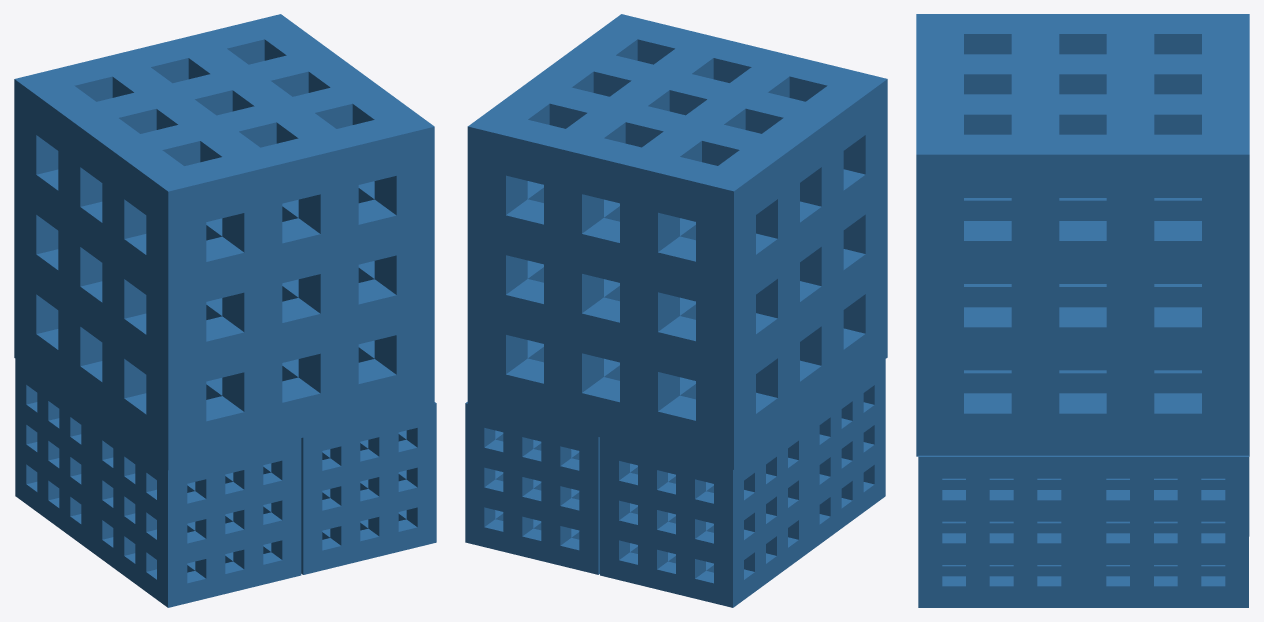
File: 4 Essentialblend.gltf
3 renders of one model, left to right at view 1: azimuth 30°, elevation 25°; view 2: azimuth 150°, elevation 25°; view 3: azimuth 270°, elevation 25°, orthographic. The views are drawn at different scales.
Parts seen in each view (by area): view 1: BridgeTestPart, BridgeTestPart.003, BridgeTestPart.004, BridgeTestPart.002; view 2: BridgeTestPart, BridgeTestPart.002, BridgeTestPart.001, BridgeTestPart.003; view 3: BridgeTestPart, BridgeTestPart.001, BridgeTestPart.004.
Part boxes in pixels (x1=…): BridgeTestPart: x1=14, y1=14, x2=434, y2=470; BridgeTestPart.003: x1=91, y1=414, x2=301, y2=607; BridgeTestPart.004: x1=301, y1=402, x2=436, y2=574; BridgeTestPart.002: x1=15, y1=359, x2=92, y2=551; BridgeTestPart: x1=467, y1=14, x2=887, y2=469; BridgeTestPart.002: x1=600, y1=415, x2=809, y2=607; BridgeTestPart.001: x1=465, y1=402, x2=599, y2=574; BridgeTestPart.003: x1=808, y1=359, x2=885, y2=551; BridgeTestPart: x1=916, y1=14, x2=1249, y2=456; BridgeTestPart.001: x1=1082, y1=455, x2=1248, y2=607; BridgeTestPart.004: x1=918, y1=455, x2=1084, y2=607.
Size of the model in its own units: 2.83 by 4.19 by 2.8.
